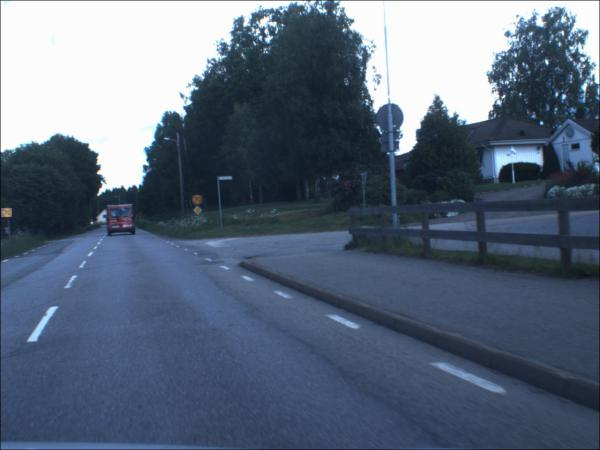70_SIGN: (193, 196, 205, 207), (2, 209, 14, 219)
PRIORITY_ROAD: (195, 207, 204, 217)
